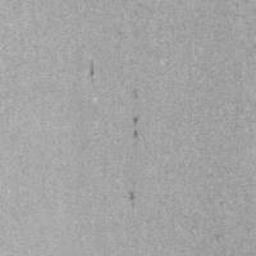Inclusion: (132, 115, 140, 140), (128, 189, 137, 209), (90, 59, 96, 83), (133, 88, 138, 100)
